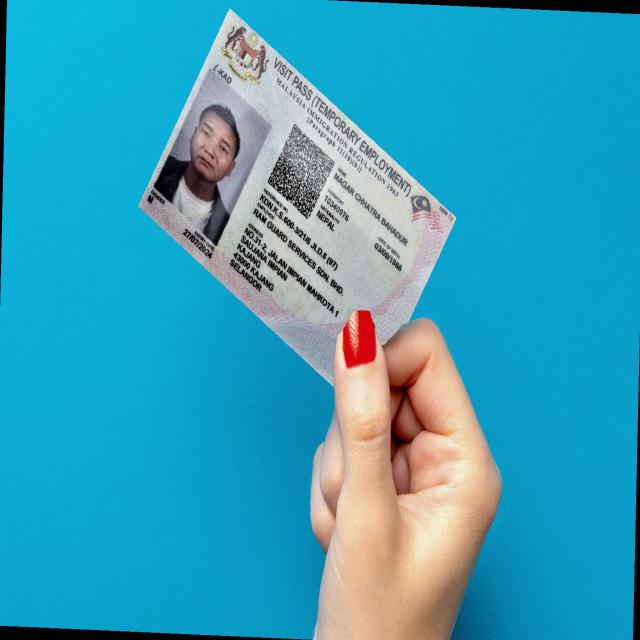ikad-temp: (138, 7, 457, 390)
